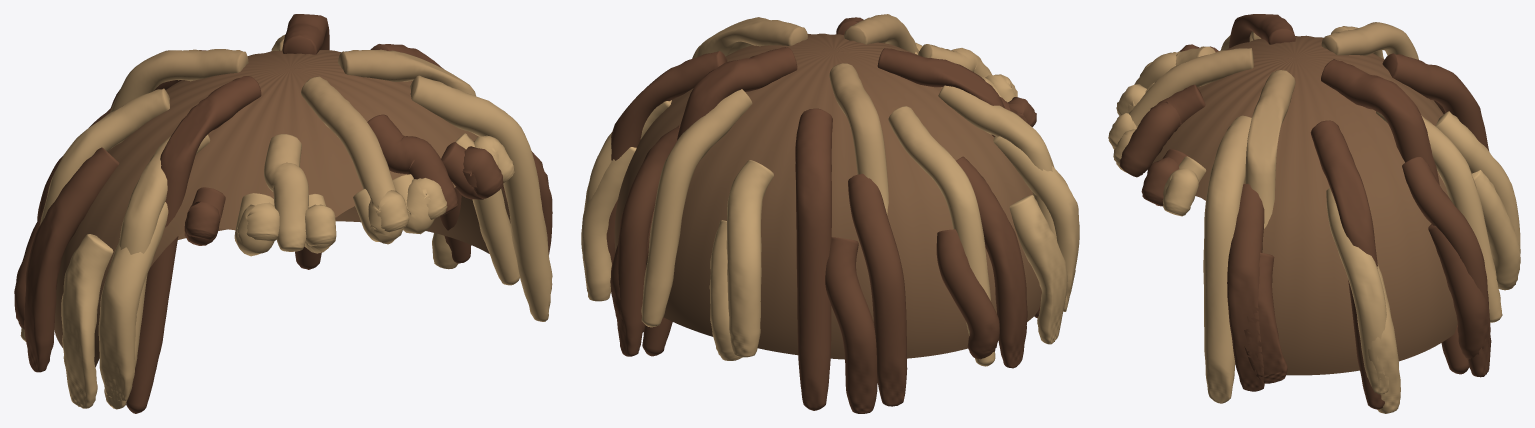
Rendered from Highlights-e94970d9b680251-hair.glb.
3 renders of one model, left to right at view 1: azimuth 30°, elevation 25°; view 2: azimuth 150°, elevation 25°; view 3: azimuth 270°, elevation 25°, orthographic. The views are drawn at different scales.
Parts seen in each view (by area): view 1: 226 hair / Hair / loc main251.001, 226 hair / Hair / loc accent251.001, 226 hair / Hair / recessed roots251.001; view 2: 226 hair / Hair / loc main251.001, 226 hair / Hair / recessed roots251.001, 226 hair / Hair / loc accent251.001; view 3: 226 hair / Hair / loc main251.001, 226 hair / Hair / recessed roots251.001, 226 hair / Hair / loc accent251.001.
Part boxes in pixels (x1,y1,x2,y2): 226 hair / Hair / loc main251.001: [14, 14, 552, 413]; 226 hair / Hair / loc accent251.001: [61, 35, 552, 409]; 226 hair / Hair / recessed roots251.001: [54, 50, 510, 367]; 226 hair / Hair / loc main251.001: [606, 14, 1040, 413]; 226 hair / Hair / recessed roots251.001: [614, 33, 1041, 359]; 226 hair / Hair / loc accent251.001: [581, 17, 1079, 360]; 226 hair / Hair / loc main251.001: [1119, 14, 1491, 409]; 226 hair / Hair / recessed roots251.001: [1152, 35, 1457, 375]; 226 hair / Hair / loc accent251.001: [1108, 22, 1520, 413].
Size of the model in its own units: 1.07 by 0.666 by 0.8941.
